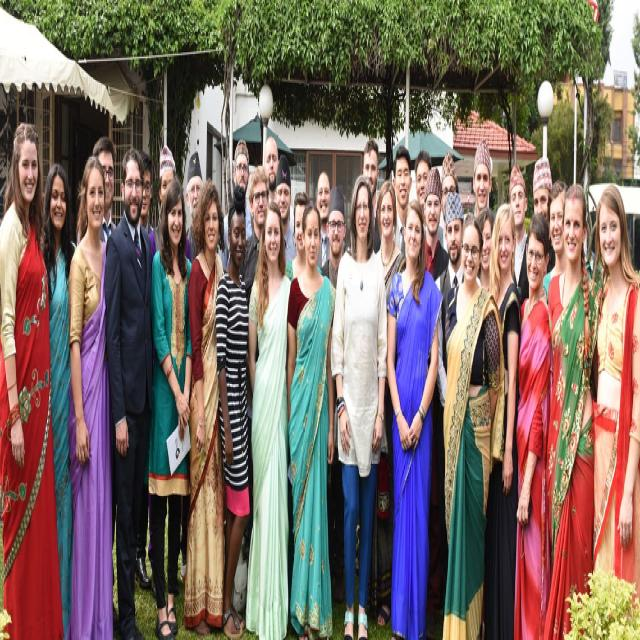body: (0, 118, 66, 638), (439, 206, 506, 638), (329, 172, 389, 638), (385, 195, 445, 638), (102, 142, 154, 638), (66, 151, 117, 639), (542, 180, 596, 640), (285, 199, 339, 639), (147, 170, 197, 639), (432, 187, 483, 614), (246, 198, 294, 640), (146, 143, 192, 602), (591, 182, 640, 601), (182, 178, 225, 634), (39, 160, 79, 640), (481, 200, 522, 636), (514, 209, 553, 640), (214, 183, 250, 639), (371, 176, 407, 630), (240, 161, 270, 566), (320, 183, 348, 610), (132, 148, 154, 594), (218, 137, 256, 276), (379, 142, 413, 259), (284, 189, 325, 285), (418, 164, 450, 284), (542, 179, 569, 307), (508, 160, 530, 311), (414, 147, 445, 249), (91, 135, 118, 249), (532, 154, 556, 275), (274, 153, 298, 264), (362, 137, 382, 256), (185, 148, 205, 265), (314, 166, 334, 279), (439, 150, 459, 254), (471, 138, 493, 220), (111, 592, 149, 639), (476, 204, 495, 292), (262, 135, 280, 202)
